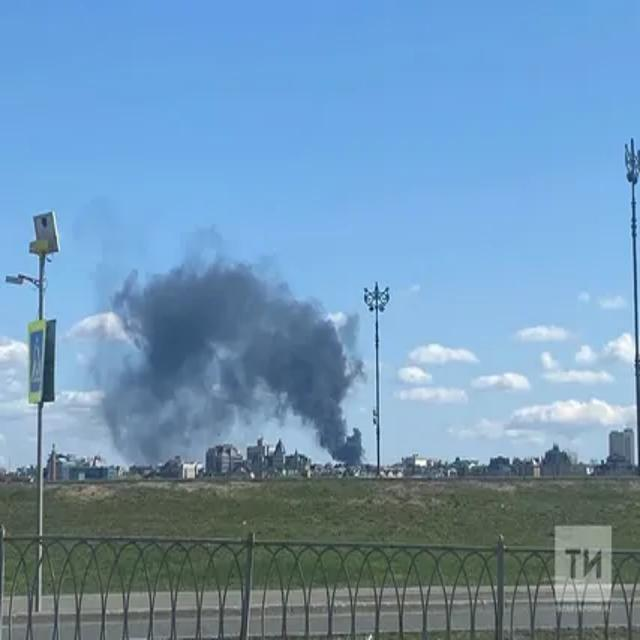Smoke: (110, 228, 369, 466)
